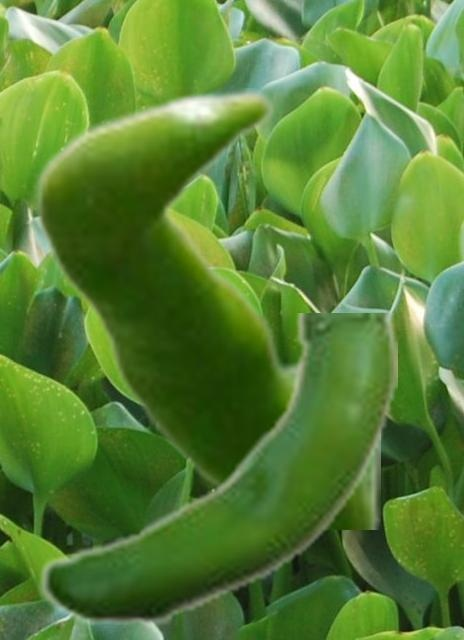green_chili: (33, 88, 379, 528), (37, 313, 396, 628)
